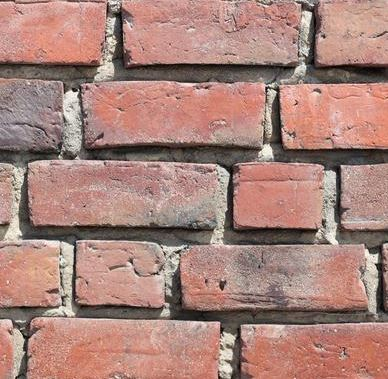brick: (182, 241, 364, 313), (77, 82, 266, 151), (29, 161, 222, 227), (121, 1, 303, 69), (23, 318, 224, 379), (235, 322, 387, 379), (277, 83, 388, 151), (1, 1, 107, 69), (74, 237, 169, 309), (231, 161, 327, 229), (309, 1, 388, 66), (1, 77, 67, 152), (1, 238, 65, 307), (339, 162, 388, 234)
